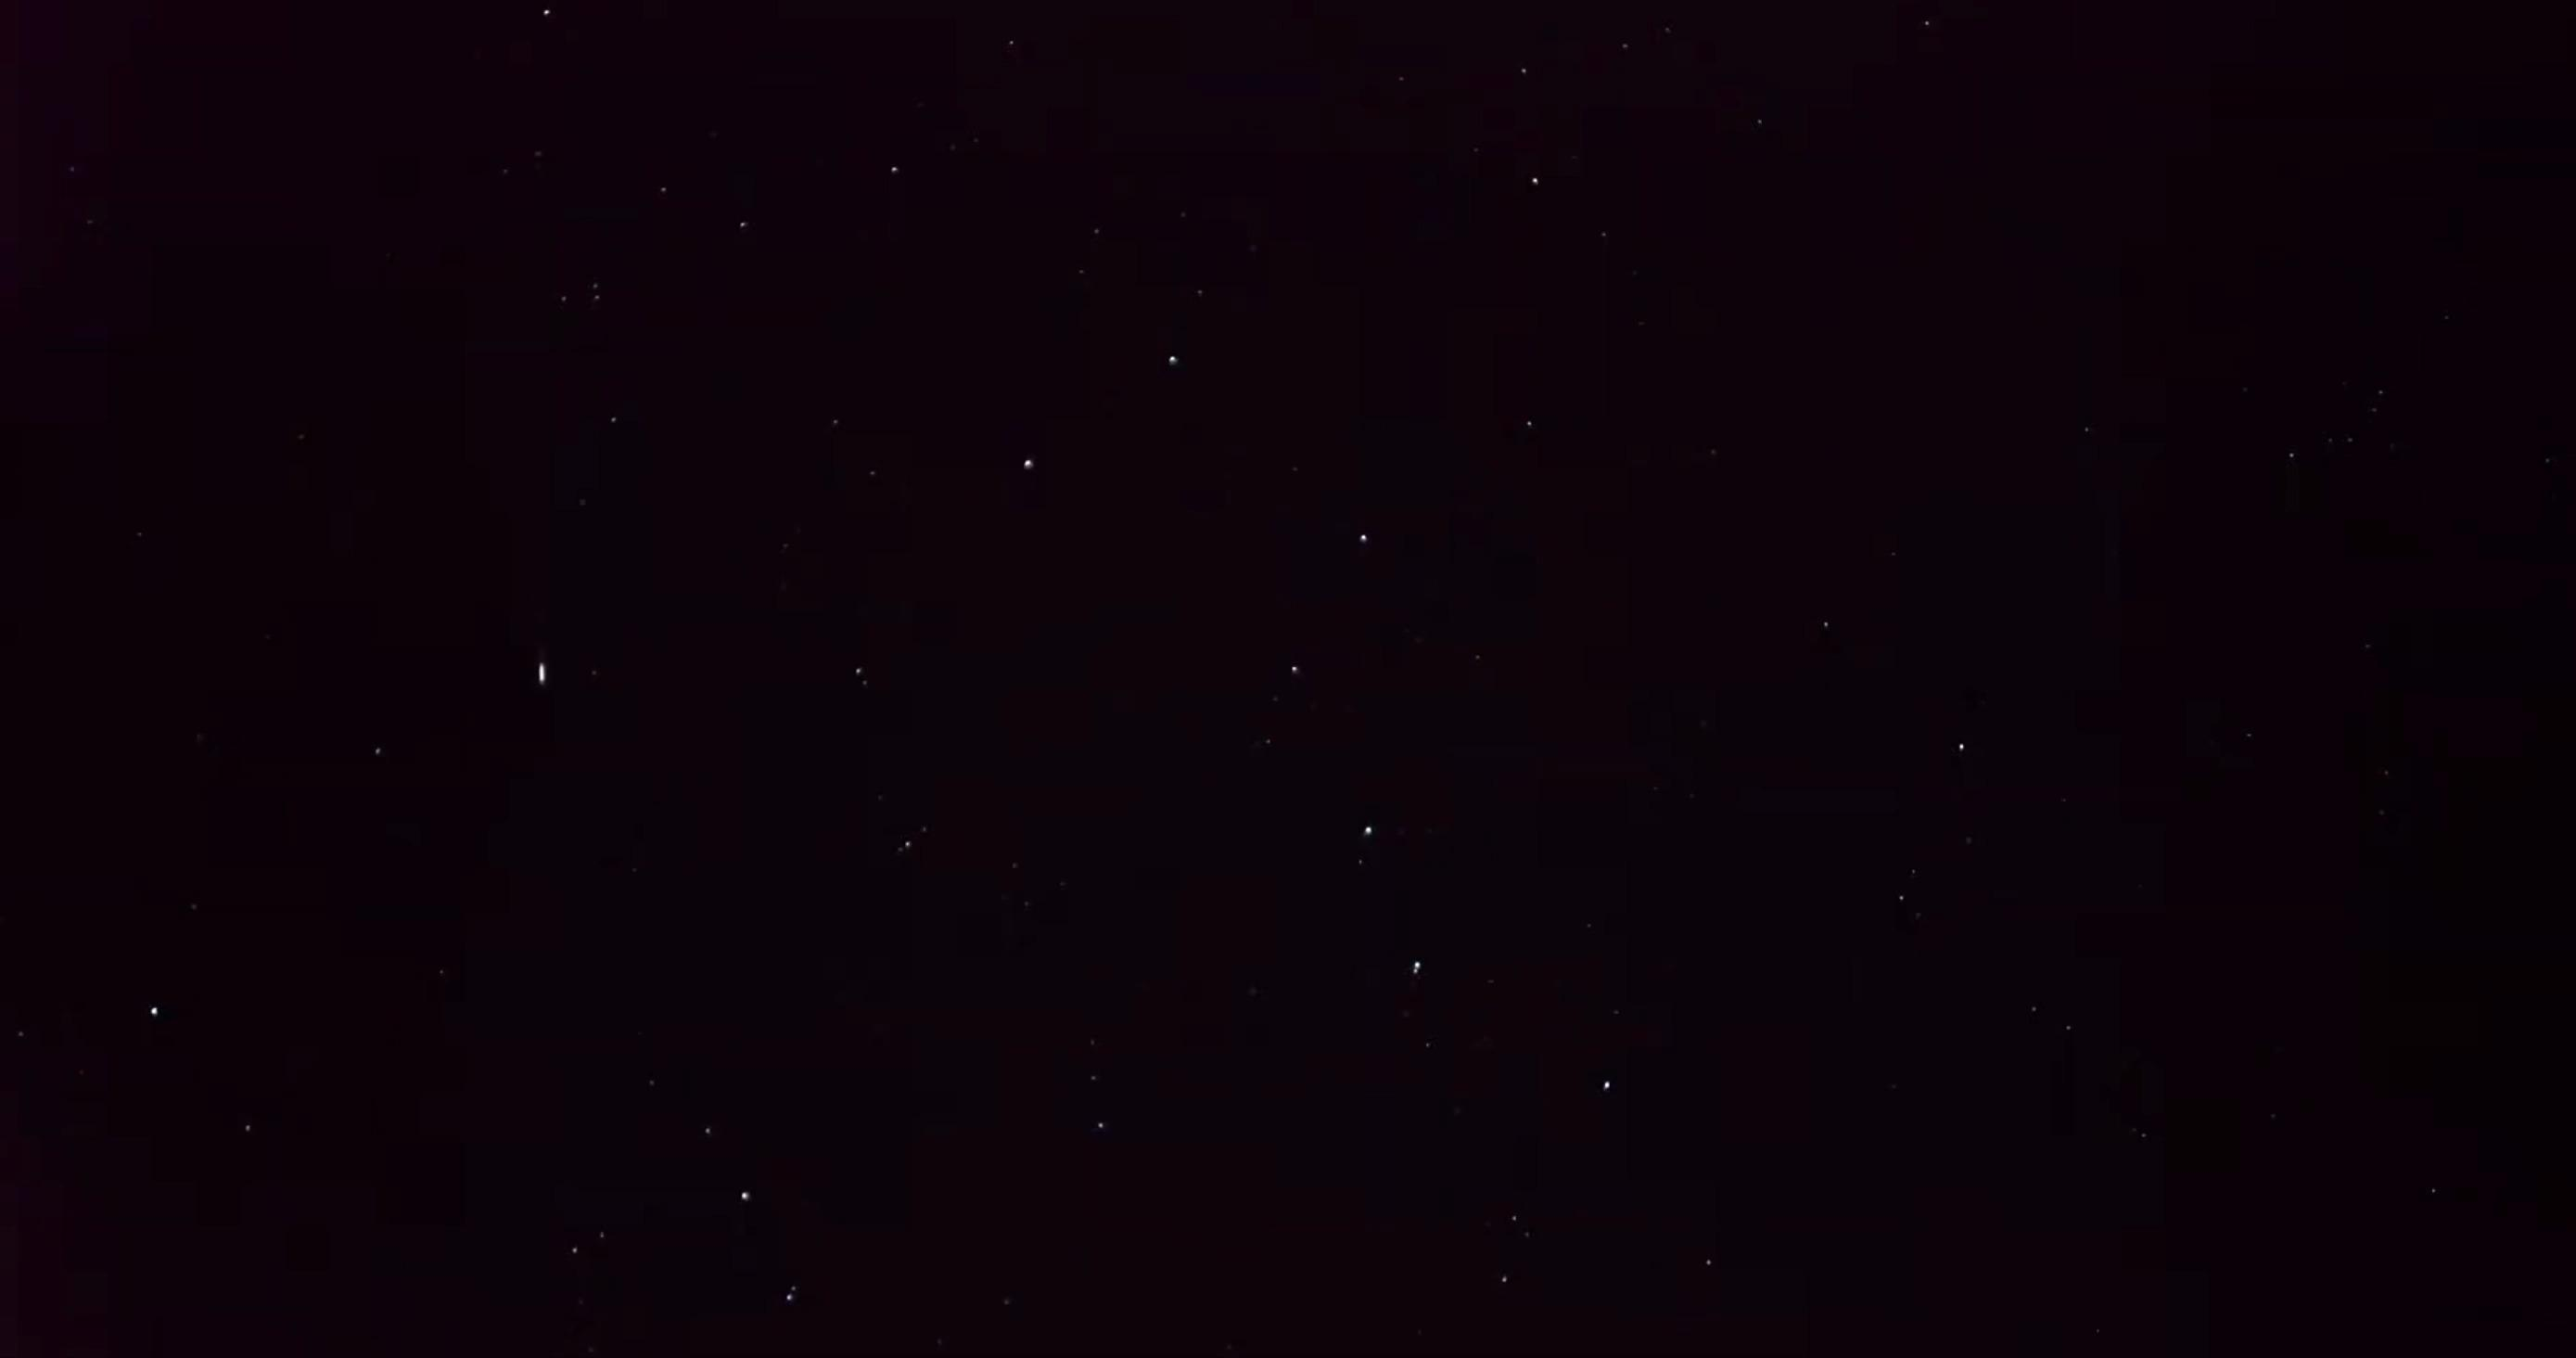meteorite: (525, 630, 561, 714)
